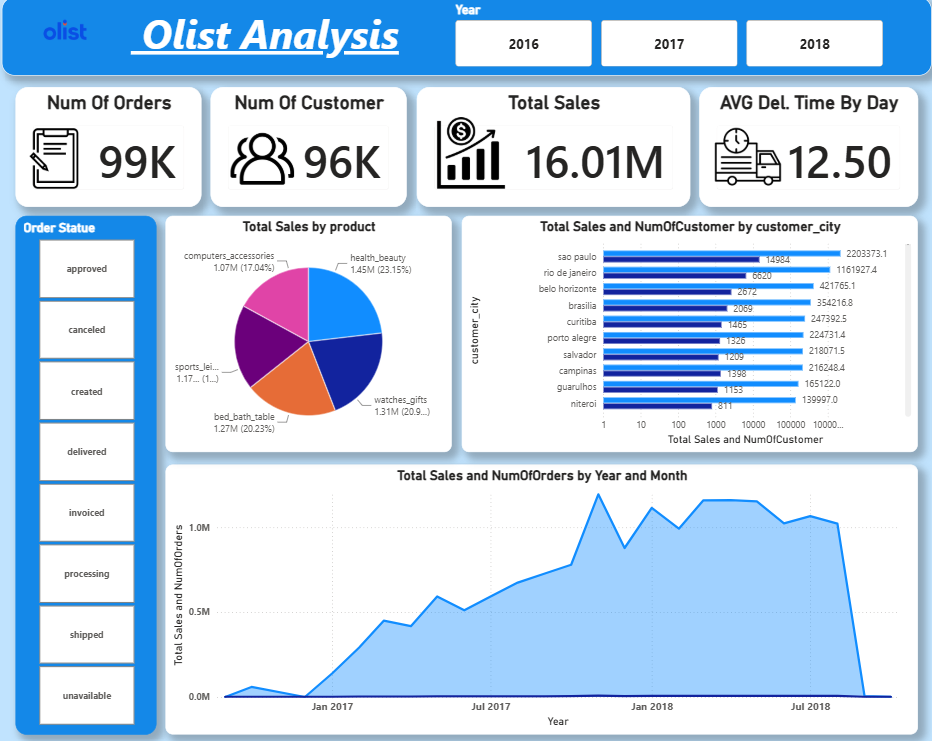

Layout of this report page (visuals, bound fields, positions):
{"tool":"powerbi","page":{"name":"Olist Analysis","canvas":[1280,1000],"ordinal":0},"visuals":[{"type":"textbox","box":[11.7,0,1240,105],"z":0},{"type":"image","box":[0,0,192.3,91.4],"z":1000},{"type":"cardVisual","title":"Num Of Orders","fields":{"Data":["olist_orders_dataset.NumOfOrders"]},"box":[30,120,248.3,160],"z":2000},{"type":"cardVisual","title":"Num Of Customer","fields":{"Data":["olist_customers_dataset.NumOfCustomer"]},"box":[290,120,261.7,160],"z":3000},{"type":"cardVisual","title":"Total Sales","fields":{"Data":["olist_order_payments_dataset.Total Sales"]},"box":[565,120,365,160],"z":4000},{"type":"cardVisual","title":"AVG Del. Time By Day","fields":{"Data":["olist_orders_dataset.AVG Delivery Time"]},"box":[941.7,120,291.7,160],"z":5000},{"type":"slicer","title":"Order Statue","fields":{"Values":["olist_orders_dataset.order_status"]},"box":[30,291.7,188.3,691.7],"z":6000},{"type":"areaChart","fields":{"Category":["olist_orders_dataset.order_purchase_timestamp.Variation.Date Hierarchy.Year","olist_orders_dataset.order_purchase_timestamp.Variation.Date Hierarchy.Month"],"Y":["olist_order_payments_dataset.Total Sales","olist_orders_dataset.NumOfOrders"]},"box":[230,623.3,1003.3,360],"z":7000},{"type":"pieChart","title":"Total Sales by product","fields":{"Category":["product_category_name_translation.product_category_name_english"],"Y":["olist_order_payments_dataset.Total Sales"]},"box":[230,291.7,381.7,315],"z":8000},{"type":"clusteredBarChart","fields":{"Category":["olist_customers_dataset.customer_city"],"Y":["olist_order_payments_dataset.Total Sales","olist_customers_dataset.NumOfCustomer"]},"box":[625,291.7,608.3,315],"z":9000},{"type":"advancedSlicerVisual","fields":{"Values":["olist_orders_dataset.order_purchase_timestamp.Variation.Date Hierarchy.Year"]},"box":[611.2,6.2,582.5,91.2],"z":10000},{"type":"image","box":[955,135,103.3,156.7],"z":10505},{"type":"image","box":[316.7,163.3,85,105],"z":11005},{"type":"image","box":[586.7,146.7,101.7,121.7],"z":11505},{"type":"image","box":[30,156.7,103.3,120],"z":12005}]}

Visuals, with their boxes in screenshot pixels (x1, y1, x2, y2), scaled from the page's 1280x1000 canvas onto the 932x741 screenshot:
textbox: <box>9,0,911,78</box>
image: <box>0,0,140,68</box>
"Num Of Orders" cardVisual: <box>22,89,203,207</box>
"Num Of Customer" cardVisual: <box>211,89,402,207</box>
"Total Sales" cardVisual: <box>411,89,677,207</box>
"AVG Del. Time By Day" cardVisual: <box>686,89,898,207</box>
"Order Statue" slicer: <box>22,216,159,729</box>
areaChart - olist_orders_dataset.order_purchase_timestamp.Variation.Date Hierarchy.Year x olist_orders_dataset.order_purchase_timestamp.Variation.Date Hierarchy.Month: <box>167,462,898,729</box>
"Total Sales by product" pieChart: <box>167,216,445,450</box>
clusteredBarChart - olist_customers_dataset.customer_city x olist_order_payments_dataset.Total Sales: <box>455,216,898,450</box>
advancedSlicerVisual - olist_orders_dataset.order_purchase_timestamp.Variation.Date Hierarchy.Year: <box>445,5,869,72</box>
image: <box>695,100,771,216</box>
image: <box>231,121,292,199</box>
image: <box>427,109,501,199</box>
image: <box>22,116,97,205</box>
